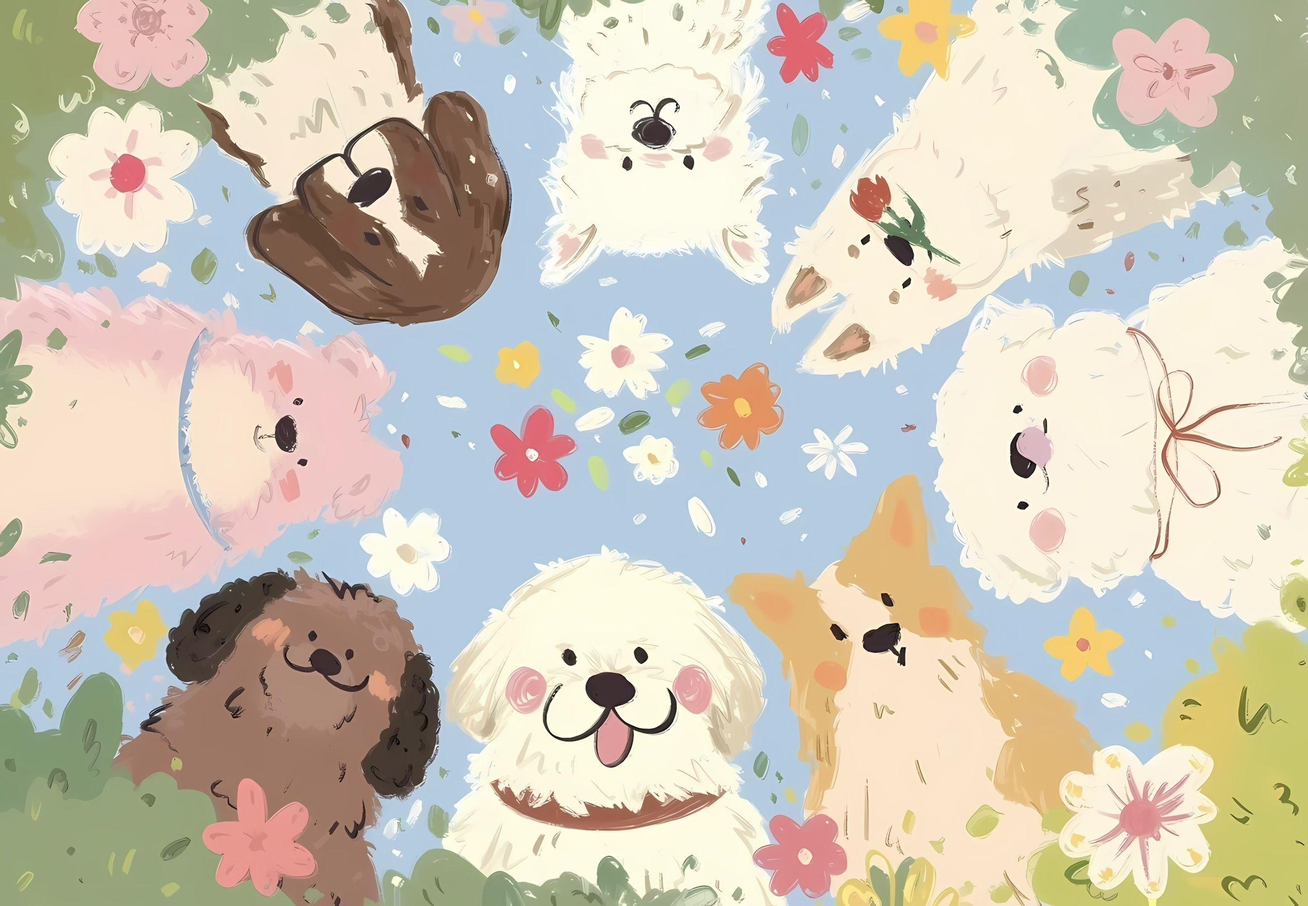adult_dog: (768, 0, 1245, 376), (726, 473, 1094, 906), (928, 233, 1308, 640), (0, 273, 407, 650), (436, 543, 790, 906), (108, 566, 444, 906), (195, 0, 514, 328), (531, 0, 785, 288)
